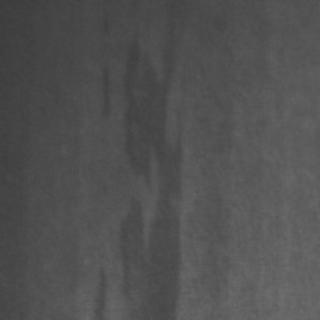inclusion: (112, 39, 182, 315)
